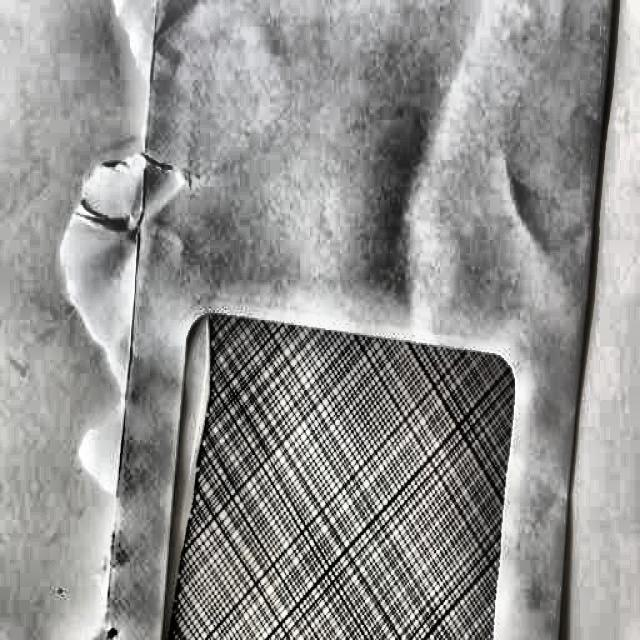paper: (30, 1, 640, 640)
